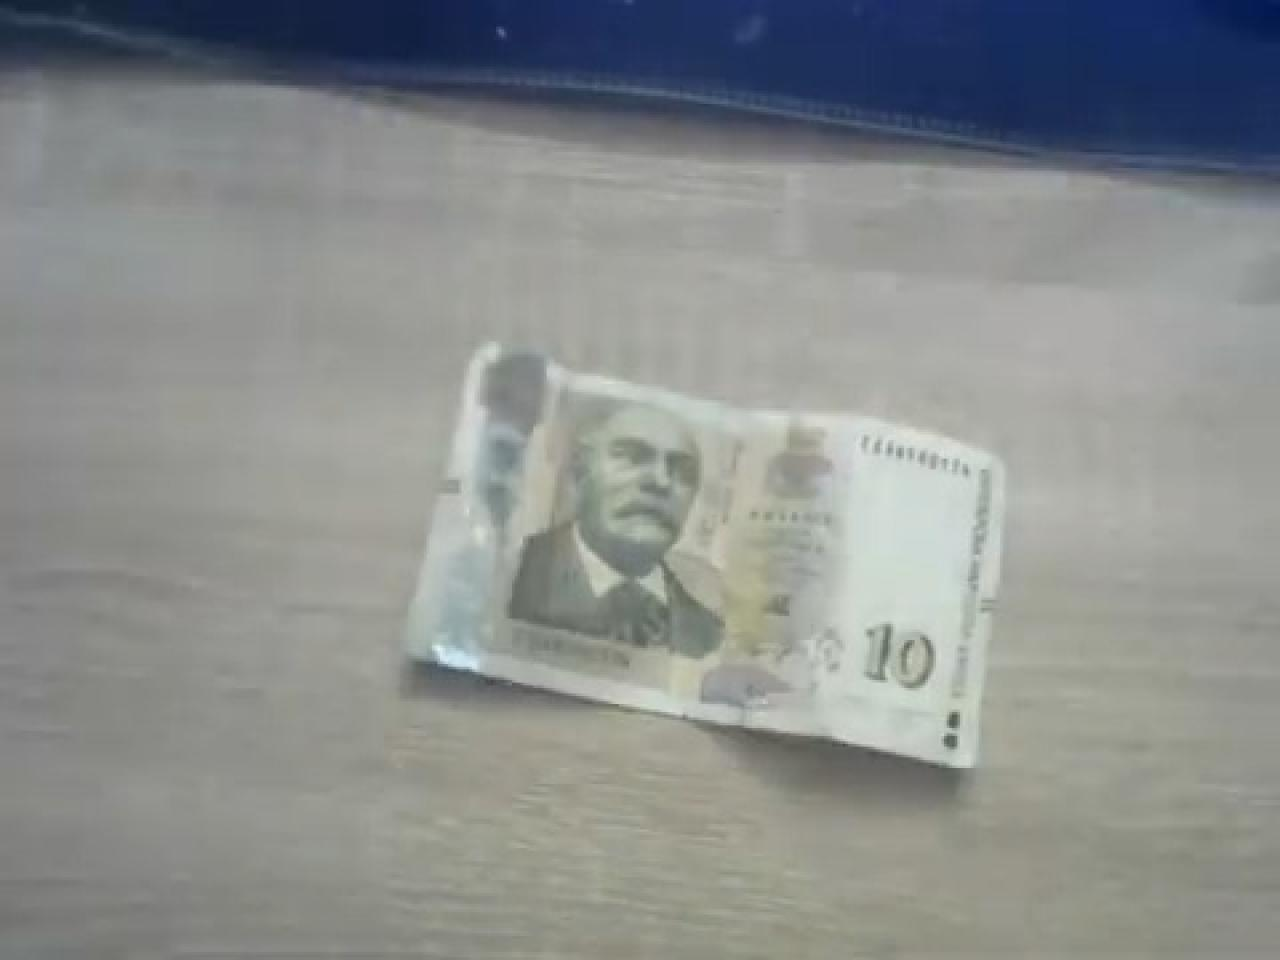10leva: (400, 336, 1008, 770)
